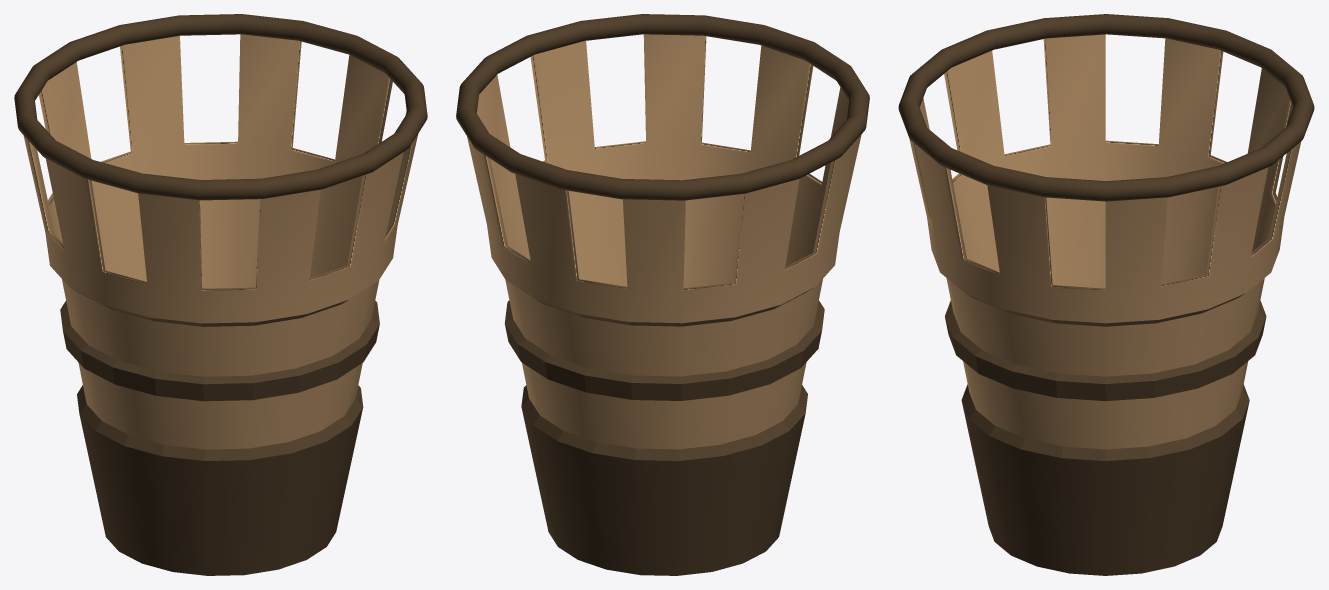
The model's file is umbrellaBowl.fbx.
The picture shows the model from 3 angles, left to right: view 1: azimuth 30°, elevation 25°; view 2: azimuth 150°, elevation 25°; view 3: azimuth 270°, elevation 25°; orthographic projection.
Parts seen in each view (by area): view 1: umbrellaBowl; view 2: umbrellaBowl; view 3: umbrellaBowl.
Boxes of the visible parts, left/top/right/bottom form: umbrellaBowl: left=14, top=14, right=427, bottom=575; umbrellaBowl: left=456, top=14, right=869, bottom=575; umbrellaBowl: left=898, top=14, right=1314, bottom=575.
Size of the model in its own units: 1.07 by 1.21 by 1.07.
